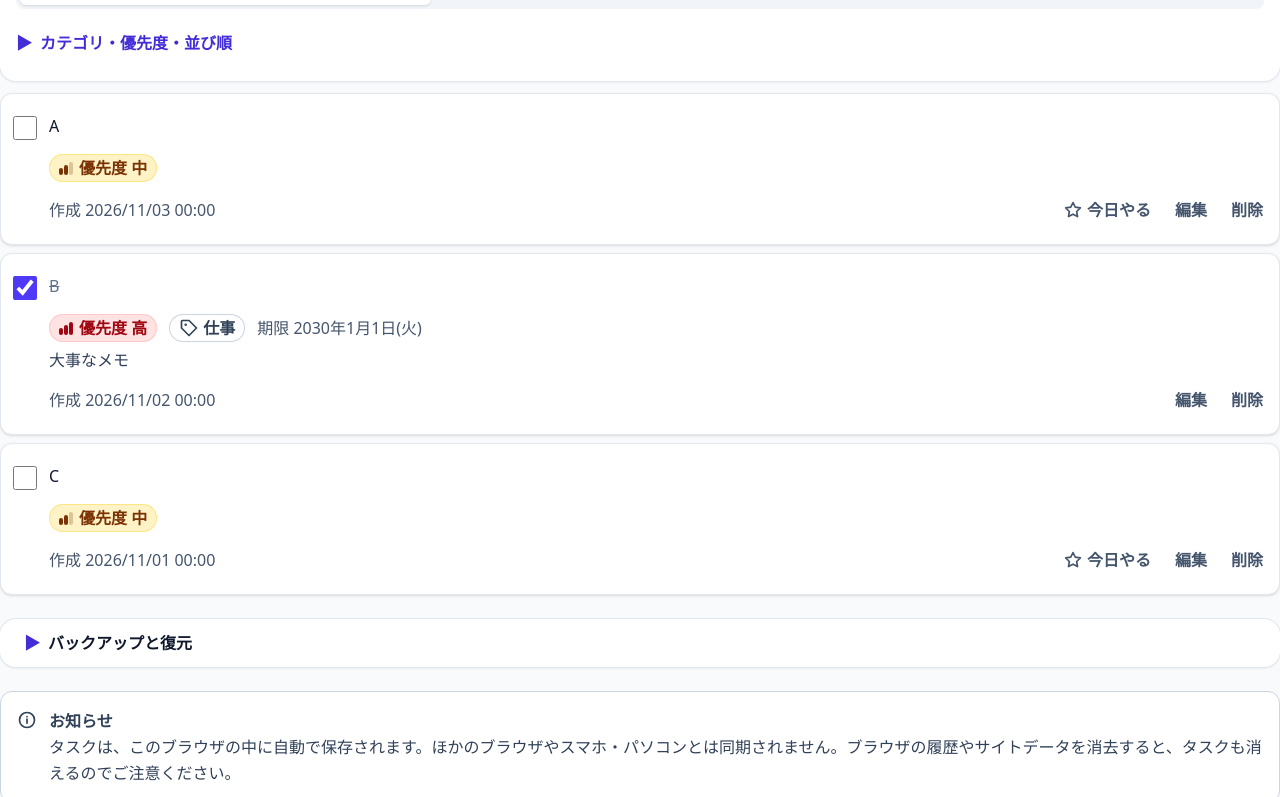
it: G. 削除の取り消し（Undo） › マウスを乗せている間は時間が止まる
(page scrolled)
Click the button with aria-label "「B」を削除": click(1247, 400) 1219,378 -> 1275,422
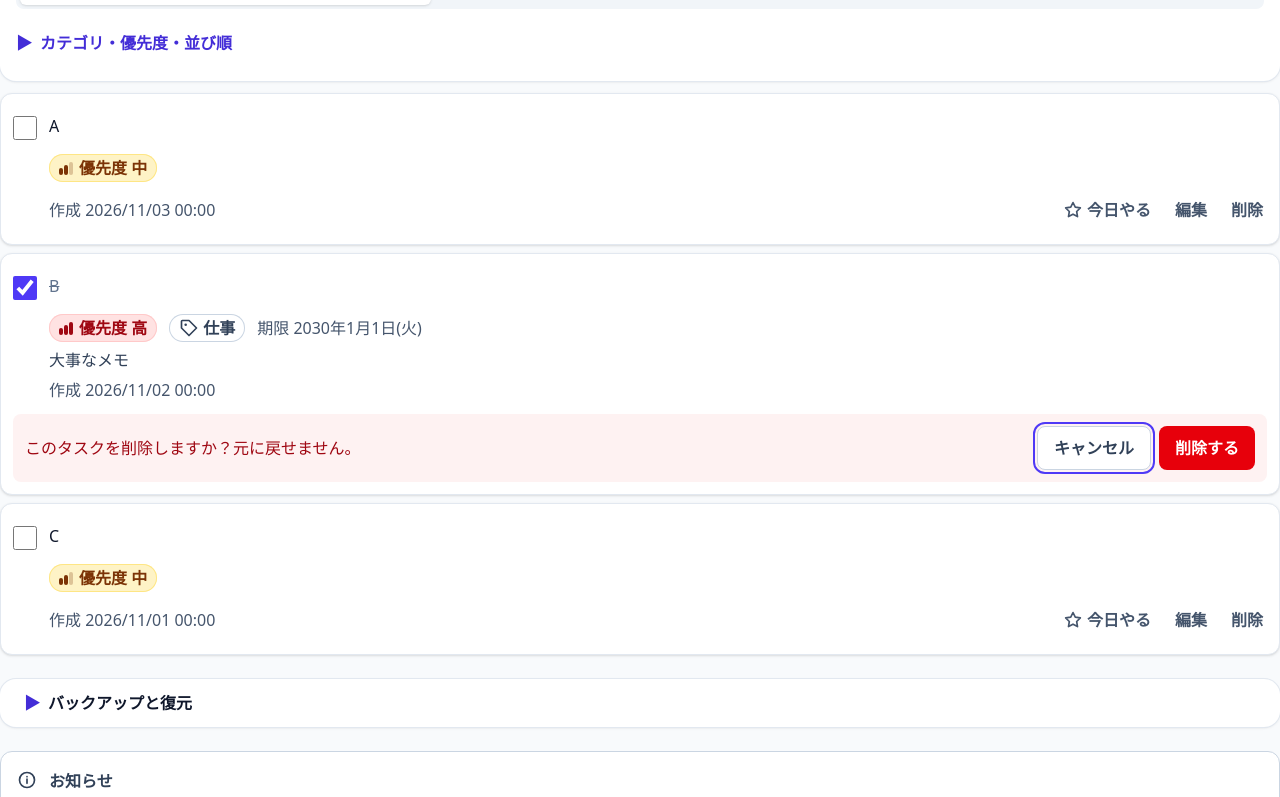
Click the button "削除する": click(1207, 448) 1159,426 -> 1255,470
(page scrolled)
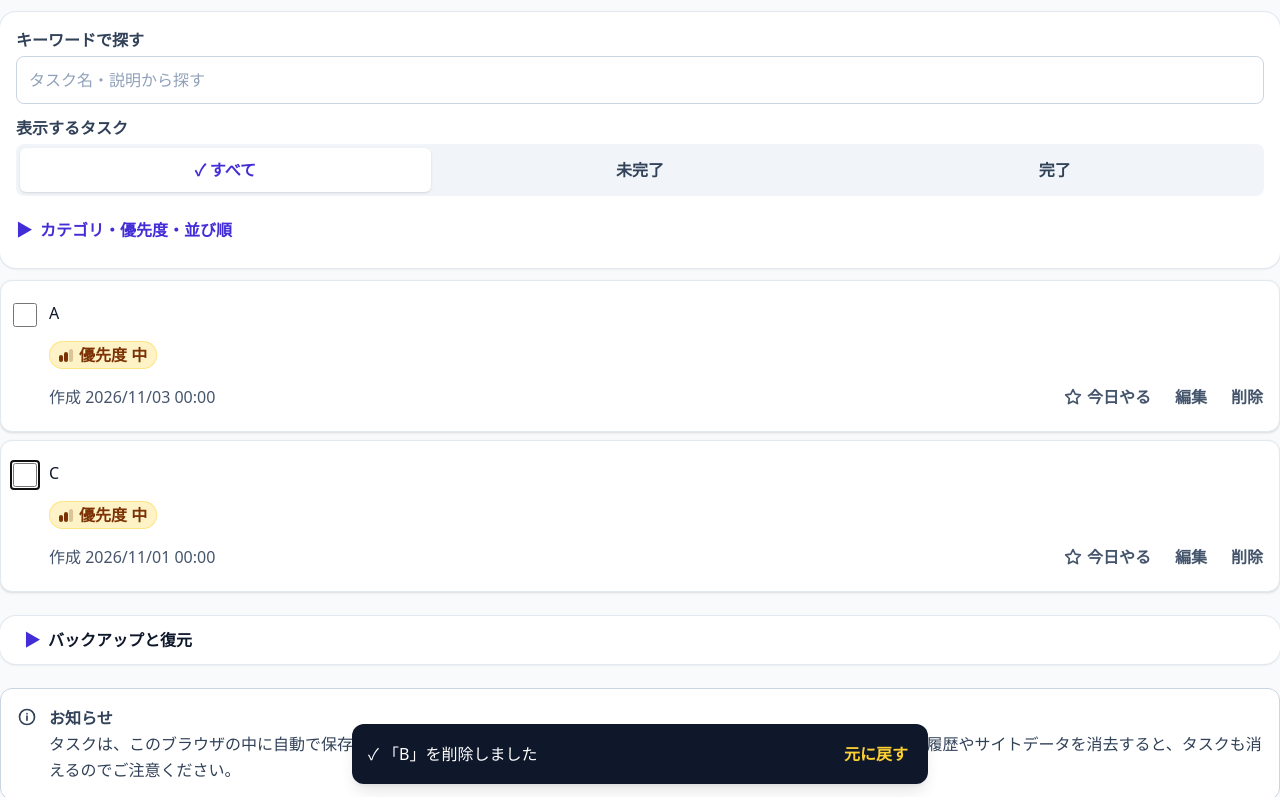
Hover over the text "「B」を削除しました": (640, 754) 352,724 -> 928,784
Check: the button "元に戻す" is shown, box 832,732 -> 920,776
Move the pointer off the text "「B」を削除しました", box 352,724 -> 928,784
Wait 8000 ms
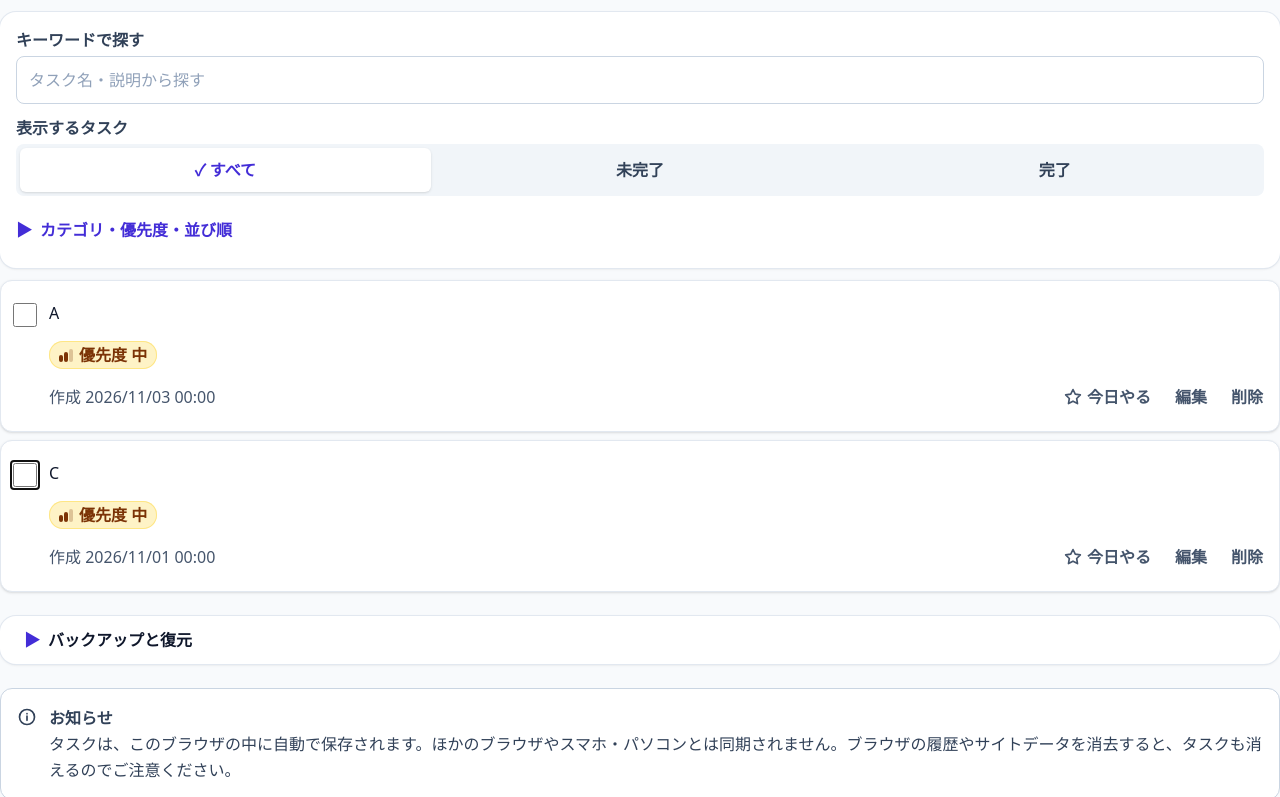
Check: the button "元に戻す" is gone
